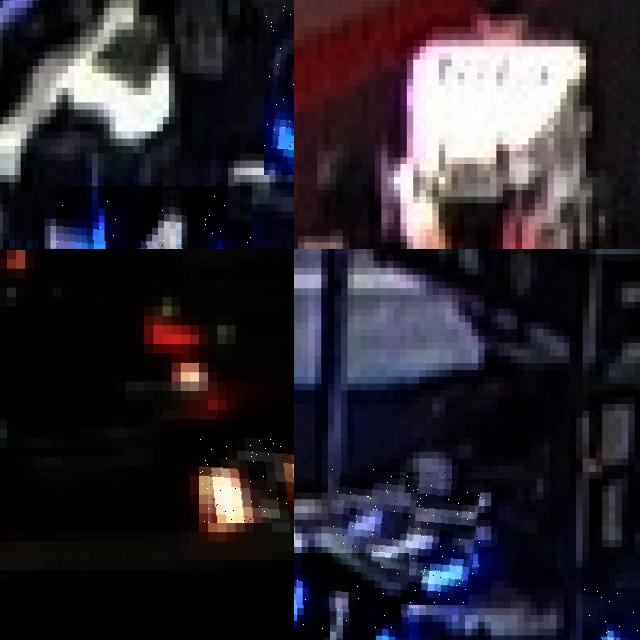B1: (332, 469, 482, 605), (294, 553, 409, 640)
B4: (56, 185, 251, 249)
Rs: (199, 438, 294, 522)
